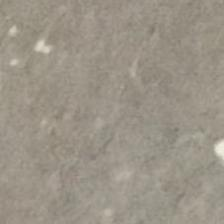Non_Crack: (3, 31, 199, 219)
